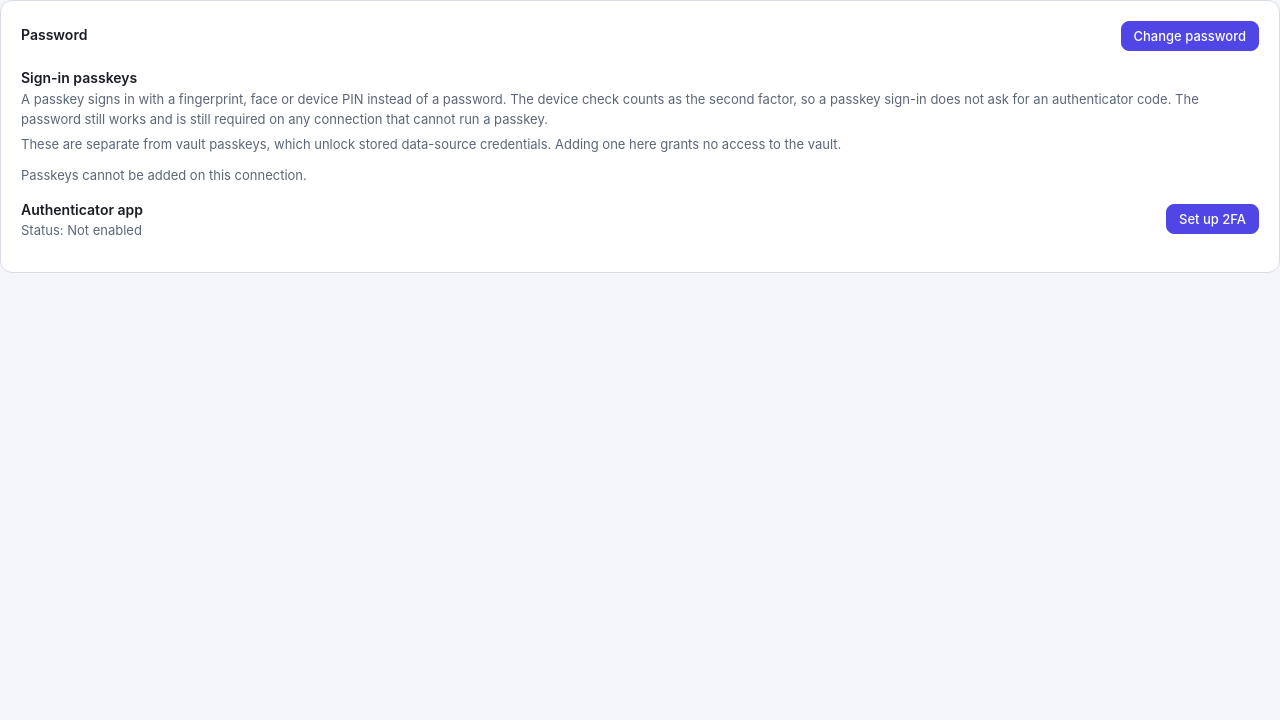
Scenario: changing your own password › keeps the form open on a refusal and says what the server said
Click the button "Change password" at (1190, 36), box [1120, 21, 1259, 51]
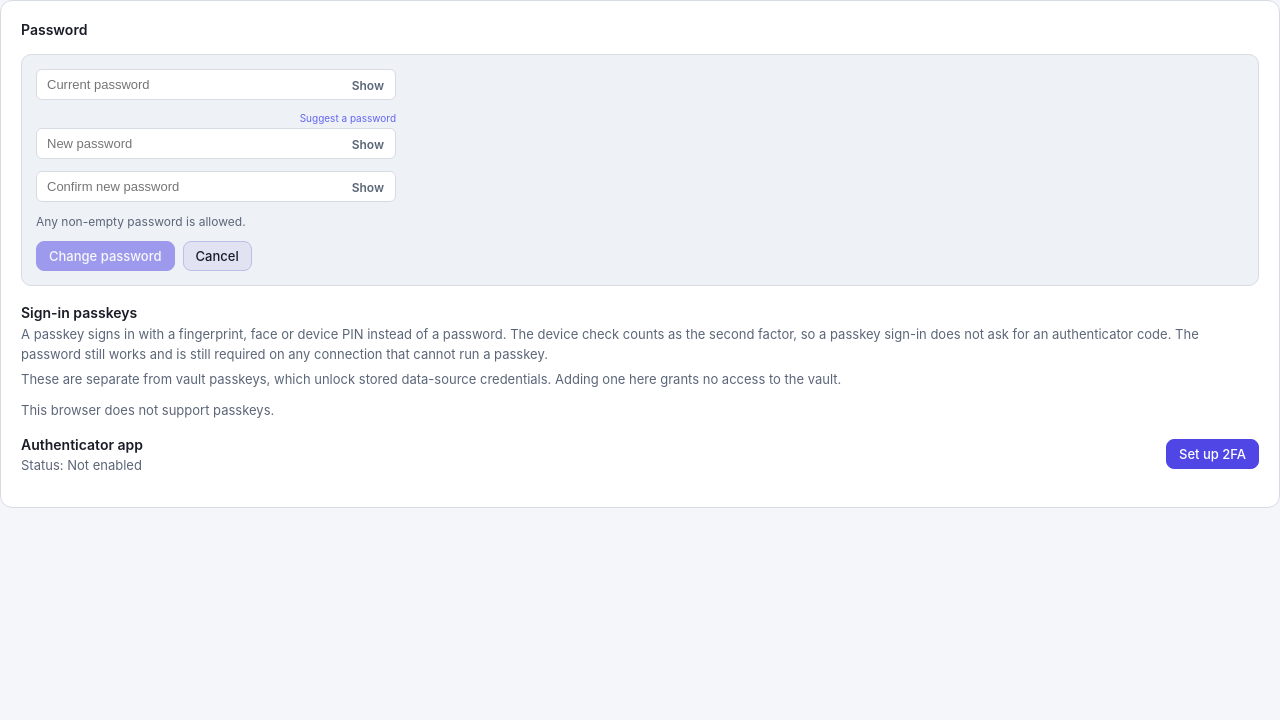
Type "the-old-one" into the password field labelled "Current password" at (216, 84), box [36, 69, 396, 100]
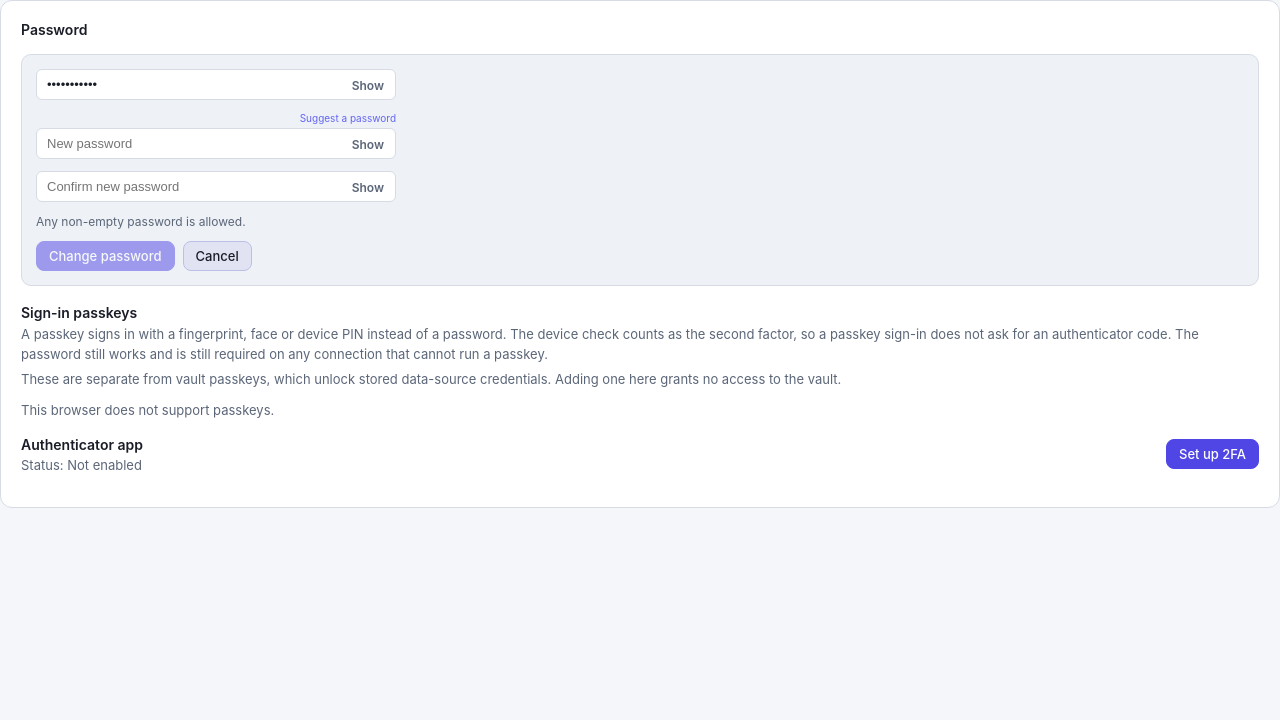
Type "the-new-one" into the password field labelled "New password" at (216, 144), box [36, 128, 396, 159]
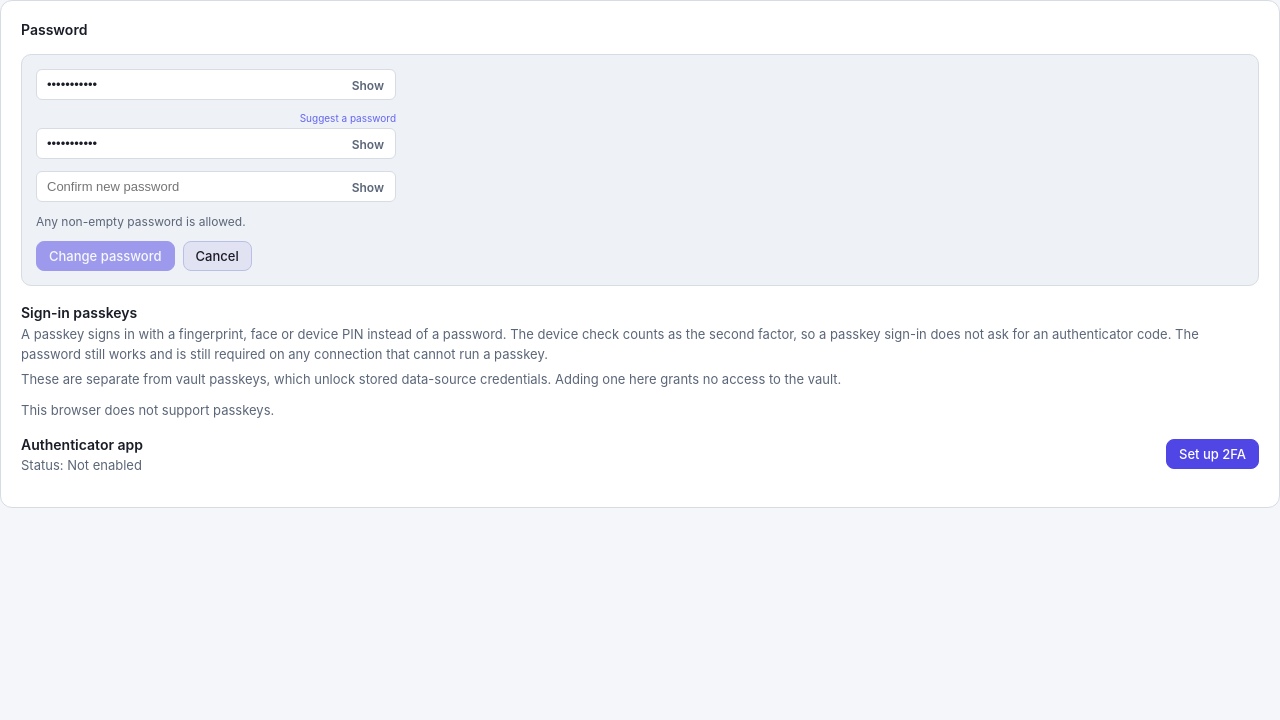
Type "the-new-one" into the password field labelled "Confirm new password" at (216, 186), box [36, 171, 396, 202]
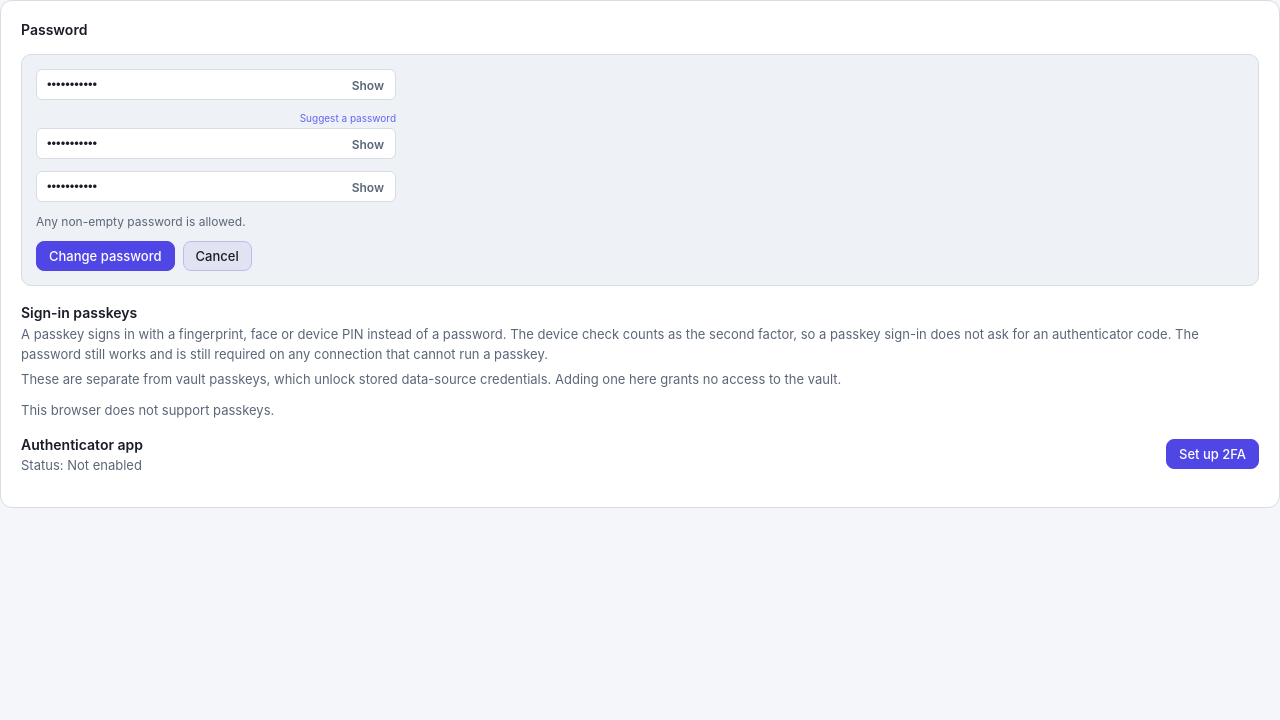
Click the button "Change password" at (105, 256), box [36, 241, 174, 271]
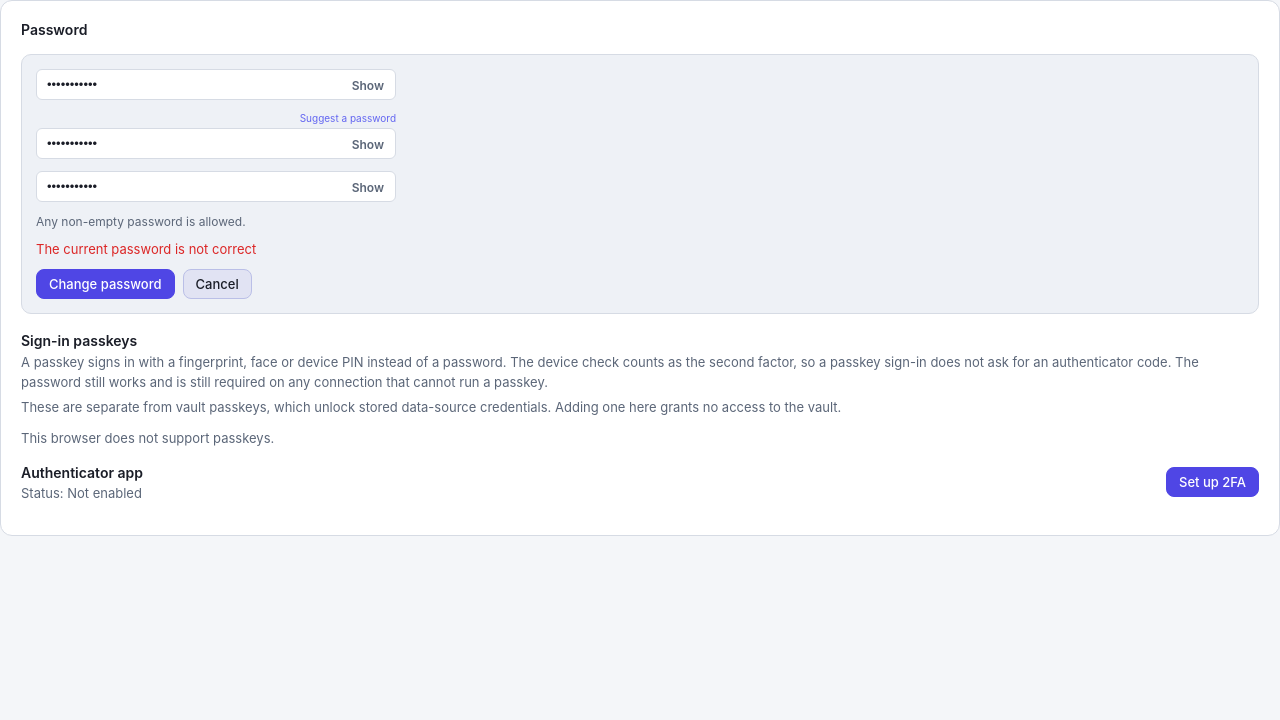
Check: the text "The current password is not correct" is shown, box [36, 241, 256, 257]
